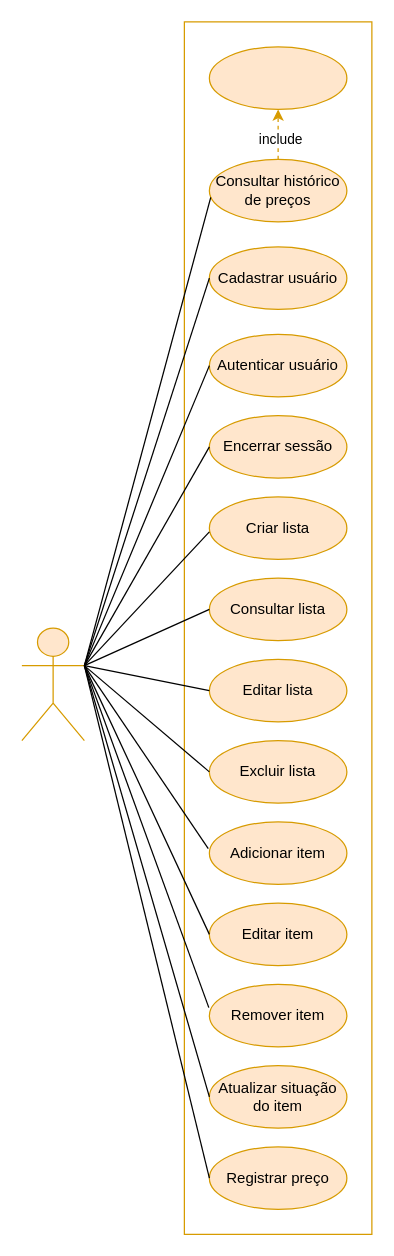
The diagram is 394 pixels wide and 1256 high, and some of its shapes have lost their labels. Each missing label, with the centre of its shape:
Calcular preço médio: point (277, 77)
Usuário: point (52, 684)
